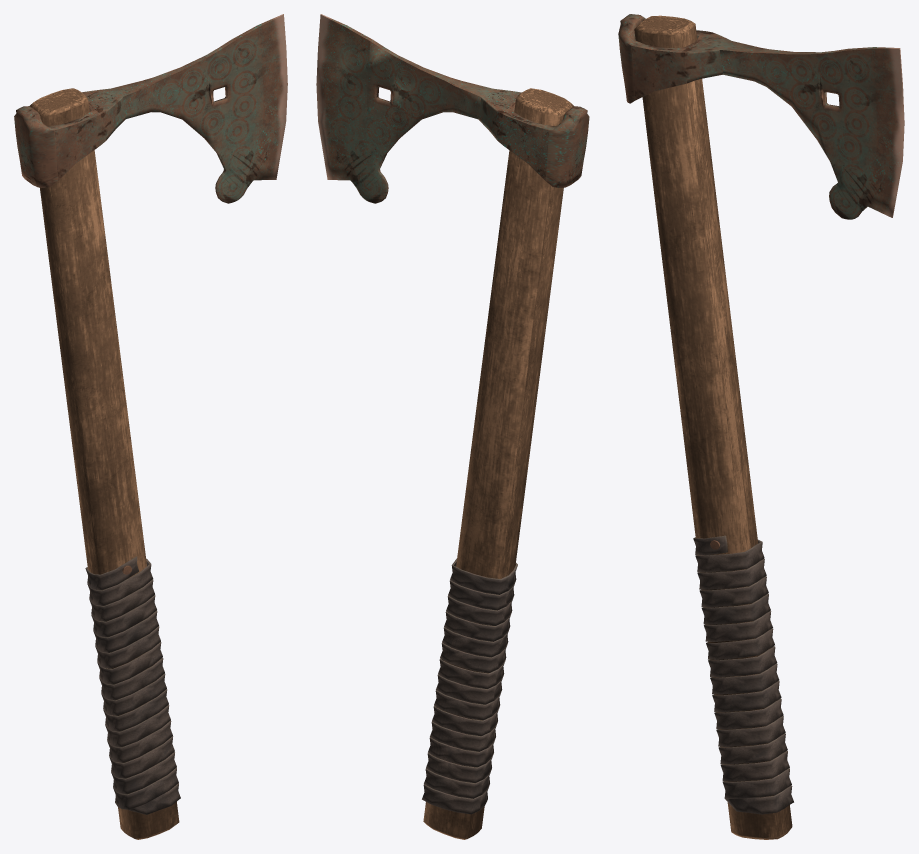
File: burak_axe.glb
3 views of the same model, side by side, from view 1: azimuth 30°, elevation 25°; view 2: azimuth 150°, elevation 25°; view 3: azimuth 330°, elevation 25° (orthographic). The views are drawn at different scales.
Parts seen in each view (by area): view 1: handle.002_axe_0; view 2: handle.002_axe_0; view 3: handle.002_axe_0.
Boxes of the visible parts, x1,y1,x2,y2 form: handle.002_axe_0: (14, 14, 287, 839); handle.002_axe_0: (316, 14, 589, 839); handle.002_axe_0: (618, 14, 904, 839).
Size of the model in its own units: 0.221 by 0.62 by 0.0399.
Materials: 1 (1 with a texture image).
